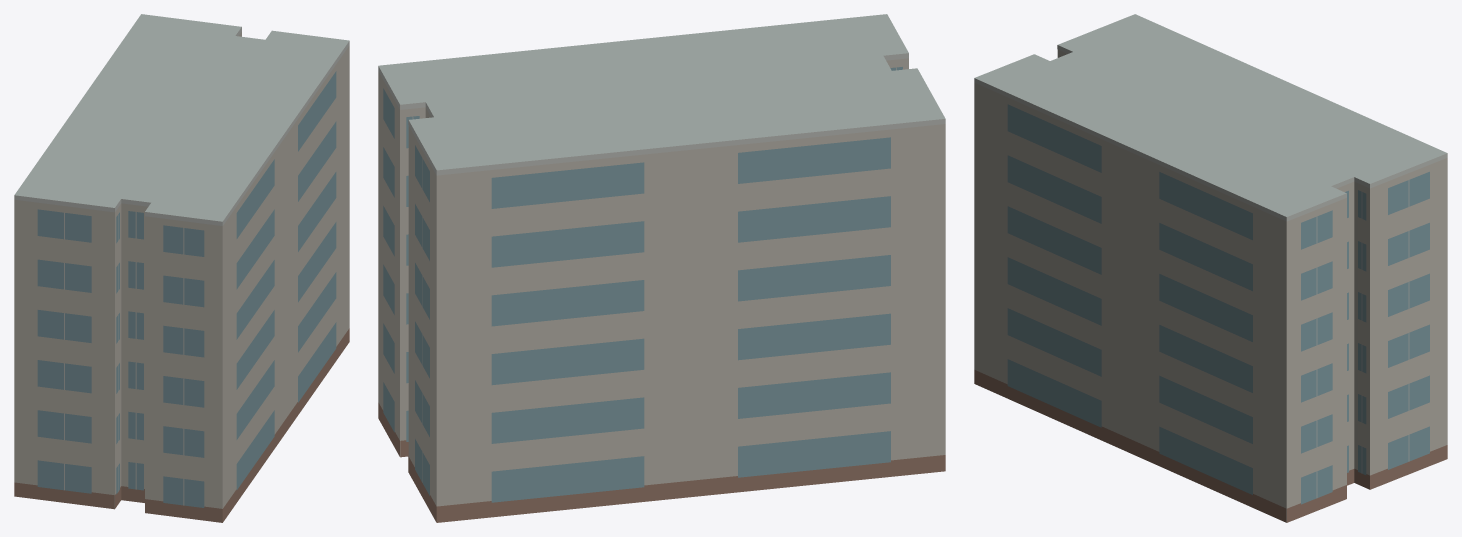
File: survey-upis-32710590.glb
3 renders of one model, left to right at view 1: azimuth 30°, elevation 25°; view 2: azimuth 150°, elevation 25°; view 3: azimuth 270°, elevation 25°, orthographic. The views are drawn at different scales.
Parts seen in each view (by area): view 1: survey-upis-32710590.tmp; view 2: survey-upis-32710590.tmp; view 3: survey-upis-32710590.tmp.
Boxes of the visible parts, bbox=[...] form: survey-upis-32710590.tmp: bbox=[14, 14, 349, 522]; survey-upis-32710590.tmp: bbox=[378, 14, 945, 522]; survey-upis-32710590.tmp: bbox=[974, 14, 1447, 522].
Size of the model in its own units: 23.66 by 16.6 by 23.3.
